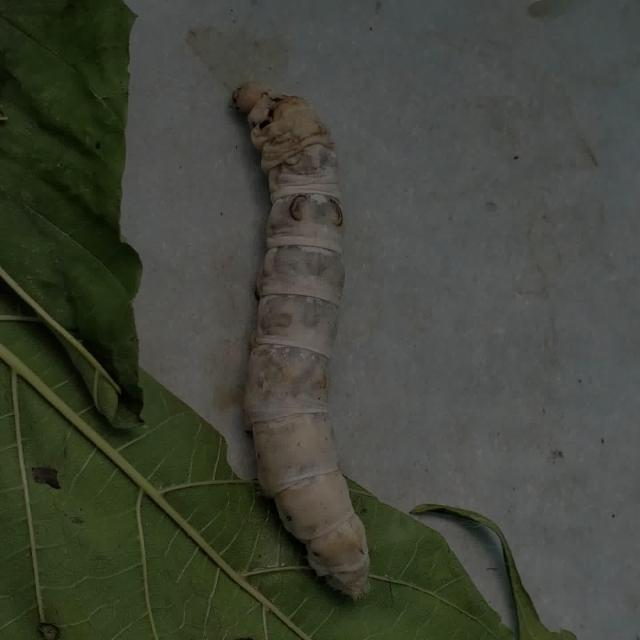Grasserie: (212, 60, 410, 603)
